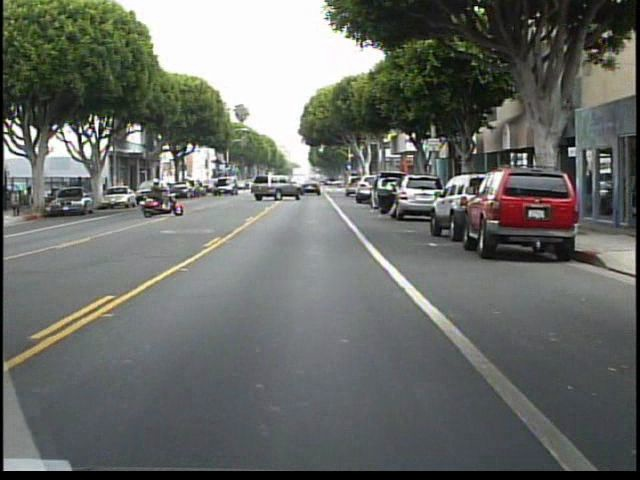person: (144, 178, 169, 214), (73, 171, 90, 209)
